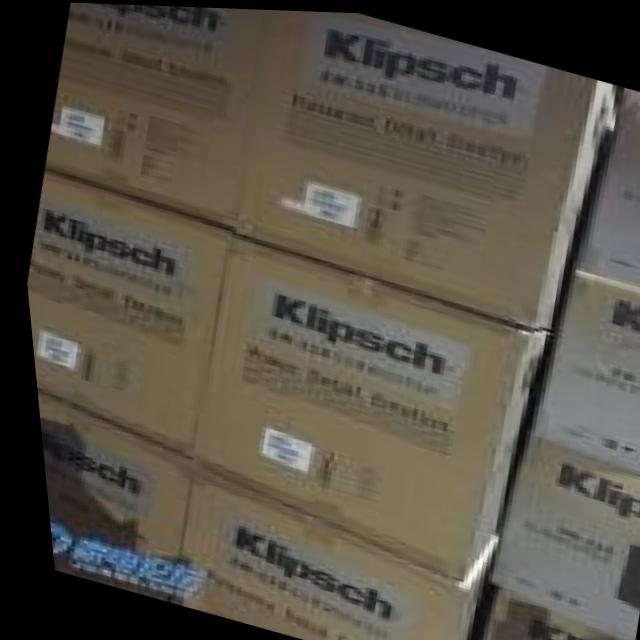box: (227, 8, 618, 329), (187, 232, 543, 578), (21, 167, 229, 461), (147, 461, 482, 640), (42, 2, 270, 224), (480, 433, 640, 640), (30, 391, 187, 599), (521, 264, 640, 471), (567, 82, 640, 286), (468, 579, 622, 640)
